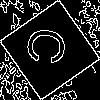C: (25, 25, 77, 69)
